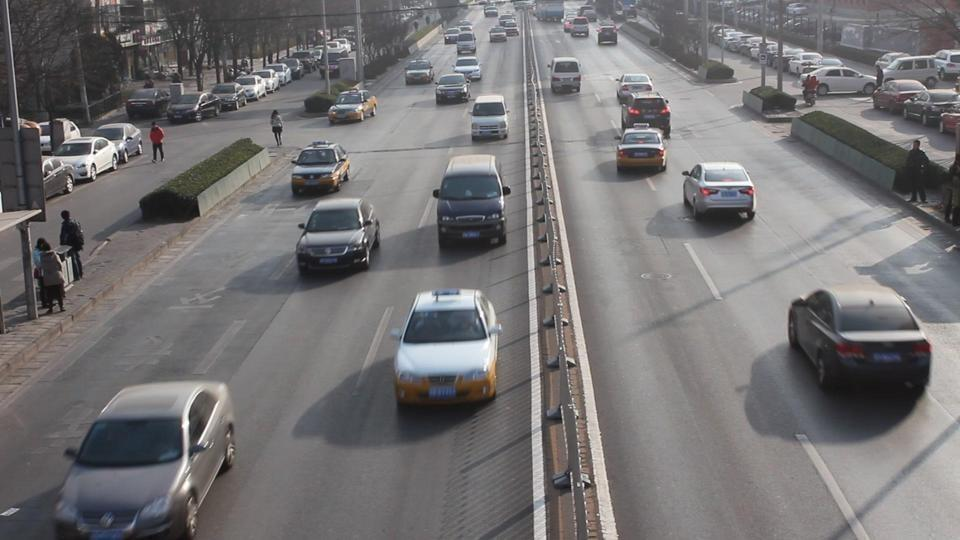car: (51, 379, 238, 538), (786, 283, 932, 393), (391, 288, 503, 405), (433, 152, 512, 247), (295, 196, 381, 274), (681, 160, 757, 220), (289, 142, 352, 196), (47, 137, 117, 182), (874, 54, 950, 90), (618, 90, 671, 139), (615, 127, 667, 174), (88, 123, 144, 163), (902, 89, 960, 127), (810, 65, 877, 96), (870, 79, 931, 113), (468, 94, 511, 142), (165, 89, 221, 124), (327, 90, 378, 125), (124, 87, 172, 120), (41, 156, 75, 199), (547, 56, 583, 95), (233, 72, 277, 100), (616, 73, 655, 102), (434, 72, 469, 104), (932, 49, 960, 80), (403, 59, 435, 86), (454, 56, 482, 82), (563, 15, 590, 38), (940, 110, 960, 134)
